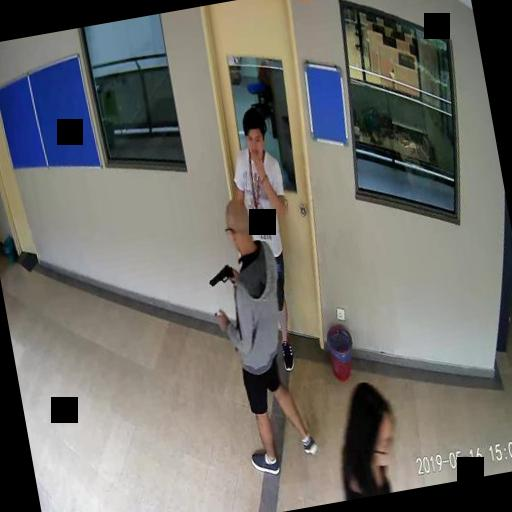Handgun: (205, 262, 236, 290)
